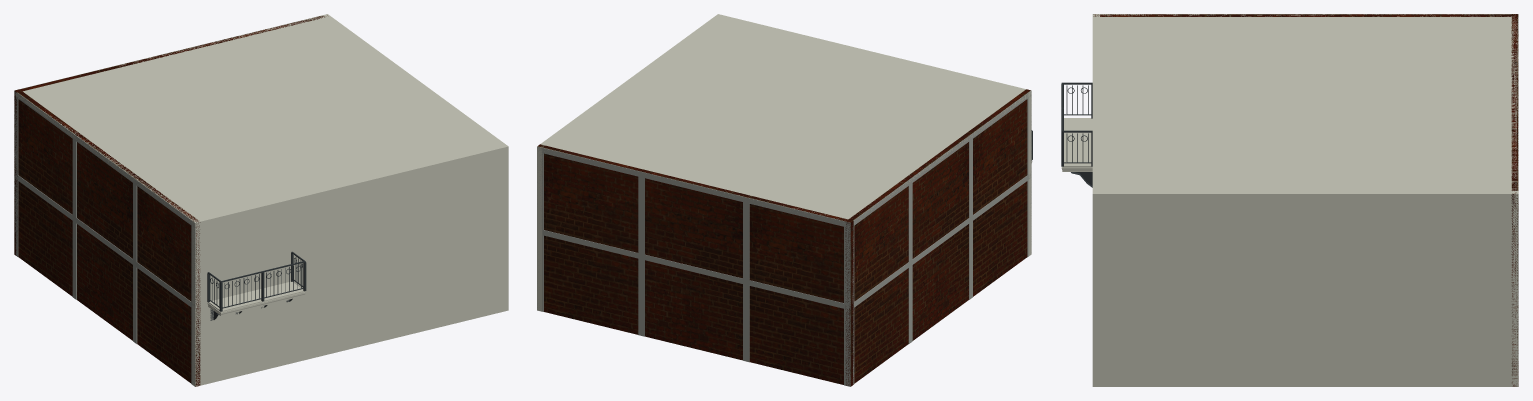
File: building.glb
3 renders of one model, left to right at view 1: azimuth 30°, elevation 25°; view 2: azimuth 150°, elevation 25°; view 3: azimuth 270°, elevation 25°, orthographic. The views are drawn at different scales.
Visible parts, largest first — view 1: roof/house:0/roof_slab#0001, house:0/edge0/z0/house:0/edge0/z0/wall_0_0, house:0/edge3/z0/house:0/edge3/z0/wall_0_0, house:0/edge2/z0/house:0/edge2/z0/wall_0_0, house:0/edge3/z0/house:0/edge3/z0/beam_0_0, house:0/edge3/z0/house:0/edge3/z0/beam_1_0, balcony/sample/balcony_platform#0001, house:0/edge1/z0/house:0/edge1/z0/wall_0_0, balcony/sample/balcony_fascia#0001; view 2: roof/house:0/roof_slab#0001, house:0/edge2/z0/house:0/edge2/z0/wall_0_0, house:0/edge3/z0/house:0/edge3/z0/wall_0_0, house:0/edge1/z0/house:0/edge1/z0/wall_0_0, house:0/edge2/z0/house:0/edge2/z0/beam_1_0, house:0/edge2/z0/house:0/edge2/z0/beam_0_0, house:0/edge0/z0/house:0/edge0/z0/wall_0_0, house:0/edge3/z0/house:0/edge3/z0/beam_0_0, house:0/edge3/z0/house:0/edge3/z0/beam_1_0, house:0/edge2/z0/house:0/edge2/z0/column_2_0, house:0/edge2/z0/house:0/edge2/z0/column_2_1, house:0/edge2/z0/house:0/edge2/z0/column_3_0 (+3 smaller); view 3: house:0/edge1/z0/house:0/edge1/z0/wall_0_0, roof/house:0/roof_slab#0001, house:0/edge0/z0/house:0/edge0/z0/wall_0_0, house:0/edge2/z0/house:0/edge2/z0/wall_0_0, balcony/sample/balcony_platform#0001, house:0/edge3/z0/house:0/edge3/z0/wall_0_0.
Boxes of the visible parts, x1,y1,x2,y2 form: roof/house:0/roof_slab#0001: (15,14,506,225); house:0/edge0/z0/house:0/edge0/z0/wall_0_0: (192,144,508,386); house:0/edge3/z0/house:0/edge3/z0/wall_0_0: (17,89,200,386); house:0/edge2/z0/house:0/edge2/z0/wall_0_0: (14,15,327,255); house:0/edge3/z0/house:0/edge3/z0/beam_0_0: (14,173,195,309); house:0/edge3/z0/house:0/edge3/z0/beam_1_0: (14,92,195,227); balcony/sample/balcony_platform#0001: (208,281,304,312); house:0/edge1/z0/house:0/edge1/z0/wall_0_0: (323,14,508,311); balcony/sample/balcony_fascia#0001: (207,291,305,315); roof/house:0/roof_slab#0001: (540,14,1031,223); house:0/edge2/z0/house:0/edge2/z0/wall_0_0: (538,144,853,386); house:0/edge3/z0/house:0/edge3/z0/wall_0_0: (845,89,1030,385); house:0/edge1/z0/house:0/edge1/z0/wall_0_0: (537,15,722,311); house:0/edge2/z0/house:0/edge2/z0/beam_1_0: (538,147,850,228); house:0/edge2/z0/house:0/edge2/z0/beam_0_0: (542,230,850,309); house:0/edge0/z0/house:0/edge0/z0/wall_0_0: (717,14,1031,256); house:0/edge3/z0/house:0/edge3/z0/beam_0_0: (850,172,1031,309); house:0/edge3/z0/house:0/edge3/z0/beam_1_0: (850,90,1031,227); house:0/edge2/z0/house:0/edge2/z0/column_2_0: (638,176,644,254); house:0/edge2/z0/house:0/edge2/z0/column_2_1: (638,258,644,336); house:0/edge2/z0/house:0/edge2/z0/column_3_0: (743,202,749,280); house:0/edge1/z0/house:0/edge1/z0/wall_0_0: (1092,191,1518,386); roof/house:0/roof_slab#0001: (1092,14,1518,198); house:0/edge0/z0/house:0/edge0/z0/wall_0_0: (1092,14,1099,386); house:0/edge2/z0/house:0/edge2/z0/wall_0_0: (1511,14,1518,386); balcony/sample/balcony_platform#0001: (1063,118,1092,167); house:0/edge3/z0/house:0/edge3/z0/wall_0_0: (1093,14,1517,16).
Size of the model in its own units: 12 by 6 by 12.89.
Materials: 4 (1 with a texture image).
